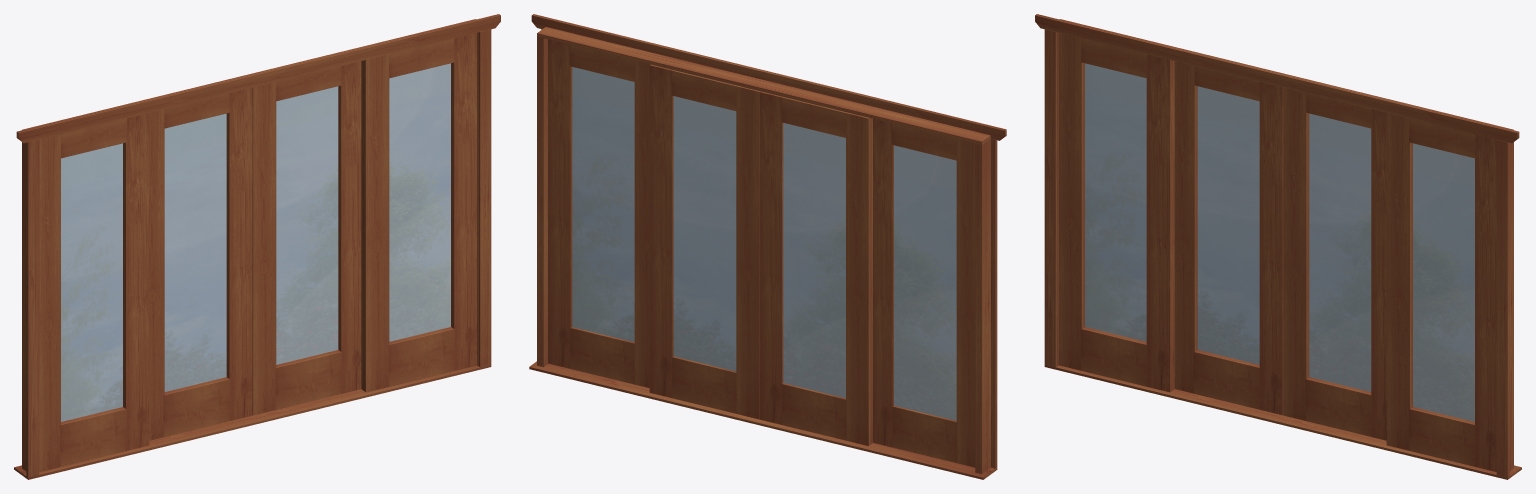
File: sdd9-ndl.obj
The picture shows the model from 3 angles, left to right: view 1: azimuth 30°, elevation 25°; view 2: azimuth 150°, elevation 25°; view 3: azimuth 330°, elevation 25°; orthographic projection.
Parts seen in each view (by area): view 1: glass001, glass004, glass003, glass002, door_left003, door_right003, door_right002, door_right, door_left001, door_right001, door_left002, trim_top (+15 smaller); view 2: glass001, glass004, glass003, glass002, door_left, door_right001, door_right, door_right003, door_left001, door_right002, door_left002, box_top (+14 smaller); view 3: glass004, glass001, glass002, glass003, door_right002, door_left002, door_left003, door_left001, door_right, door_left, door_right003, trim_top (+15 smaller).
Boxes of the visible parts, x1,y1,x2,y2 form: glass001: (276,86,338,364); glass004: (164,113,226,391); glass003: (389,63,450,341); glass002: (61,143,122,421); door_left003: (361,54,389,392); door_right003: (451,33,477,370); door_right002: (123,113,149,450); door_right: (226,87,252,420); door_left001: (252,82,276,415); door_right001: (338,61,361,393); door_left002: (39,134,60,471); trim_top: (16,14,500,143); glass001: (673,96,736,371); glass004: (783,123,845,398); glass003: (572,67,634,342); glass002: (894,145,956,420); door_left: (846,112,872,445); door_right001: (649,64,673,397); door_right: (759,91,783,424); door_right003: (548,39,572,368); door_left001: (736,85,759,419); door_right002: (873,119,893,447); door_left002: (956,139,975,467); box_top: (537,27,990,145); glass004: (1197,86,1259,364); glass001: (1309,113,1371,391); glass002: (1085,63,1146,341); glass003: (1413,143,1474,421); door_right002: (1146,54,1174,392); door_left002: (1058,33,1084,370); door_left003: (1386,113,1412,450); door_left001: (1283,87,1309,420); door_right: (1259,82,1283,415); door_left: (1174,61,1197,393); door_right003: (1475,134,1496,471); trim_top: (1035,14,1519,143).
Bounding box in the file's own units: 108 × 74.75 × 5.5.
7 materials, 7 textured.
